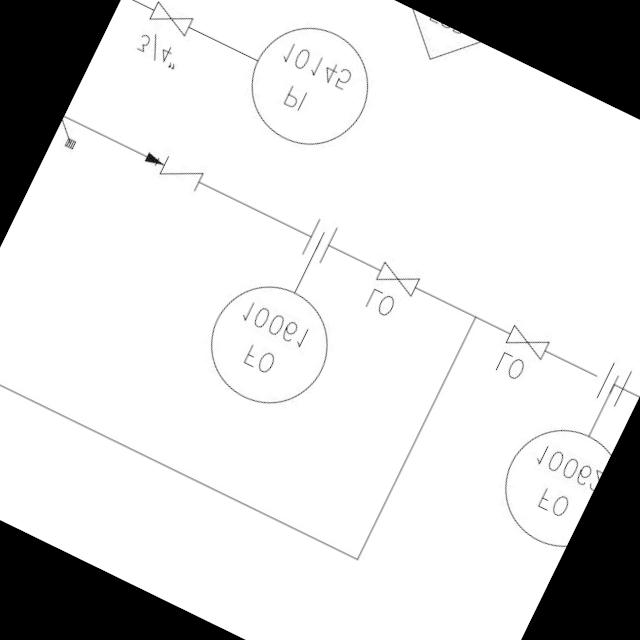GV: (369, 256, 425, 304), (500, 319, 556, 366), (143, 0, 200, 43)
